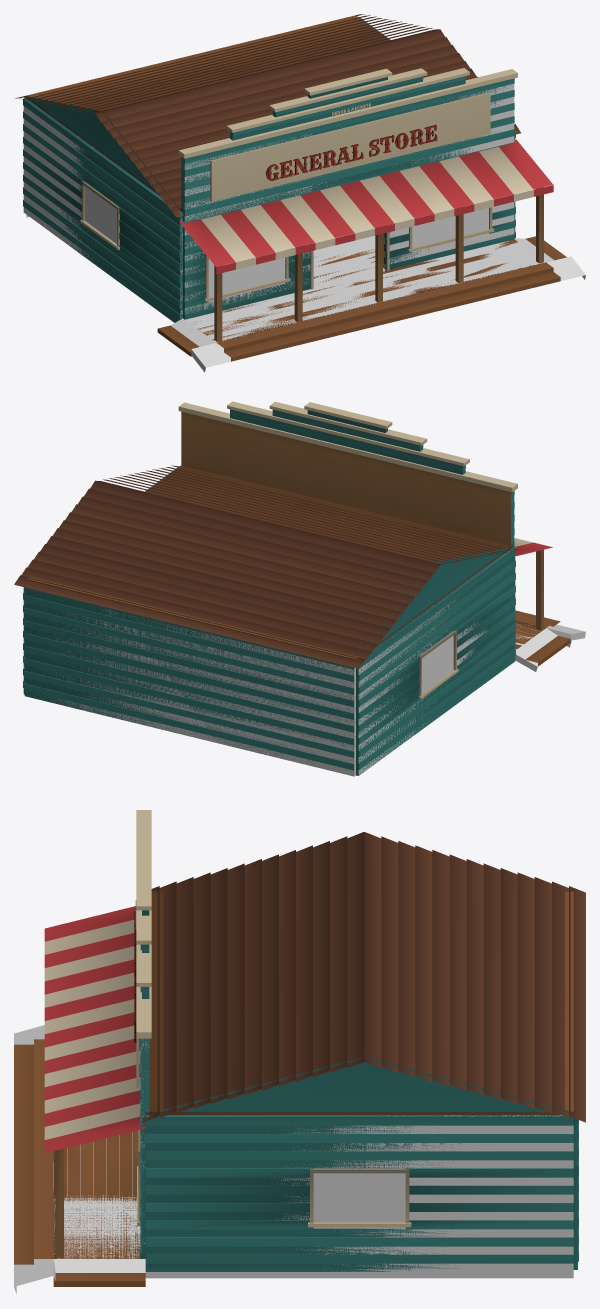
File: store.glb
3 renders of one model, top to bottom at view 1: azimuth 30°, elevation 25°; view 2: azimuth 150°, elevation 25°; view 3: azimuth 270°, elevation 25°, orthographic. The views are drawn at different scales.
Visible parts, largest first — view 1: store, COL_7, COL_6, COL_3, COL_1, COL_0, COL_8, COL_9; view 2: store, COL_5, COL_6, COL_9; view 3: store, COL_4, COL_7, COL_0, COL_8, COL_10.
Boxes of the visible parts, x1,y1,x2,y2 form: store: (15,14,566,361); COL_7: (185,241,545,342); COL_6: (23,106,182,317); COL_3: (389,83,514,263); COL_1: (184,133,312,313); COL_0: (26,214,383,286); COL_8: (190,256,585,372); COL_9: (170,318,215,356); store: (14,401,571,775); COL_5: (27,606,355,776); COL_6: (358,596,486,775); COL_9: (515,628,570,671); store: (14,810,585,1286); COL_4: (270,1115,573,1271); COL_7: (53,1132,140,1258); COL_0: (145,1272,573,1278); COL_8: (14,1025,55,1293); COL_10: (53,1259,145,1272).
Bounding box in the file's own units: 19.6 × 10.45 × 18.7.
